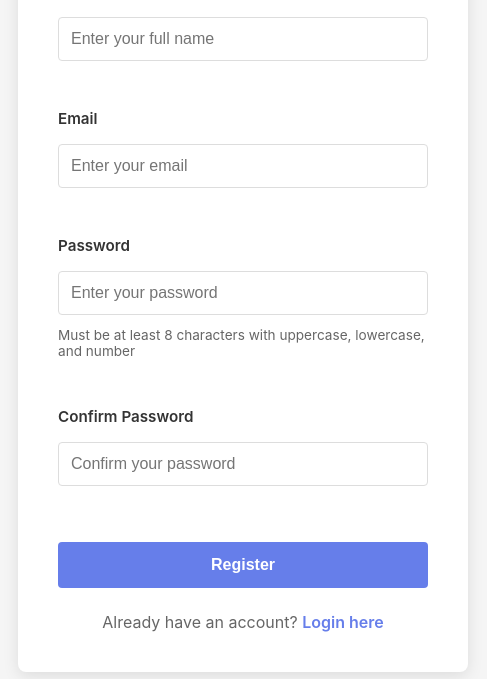
RegisterForm › validates empty fields
(page scrolled)
Click the button "Register": [243, 565] box [58,542,428,588]
(page scrolled)
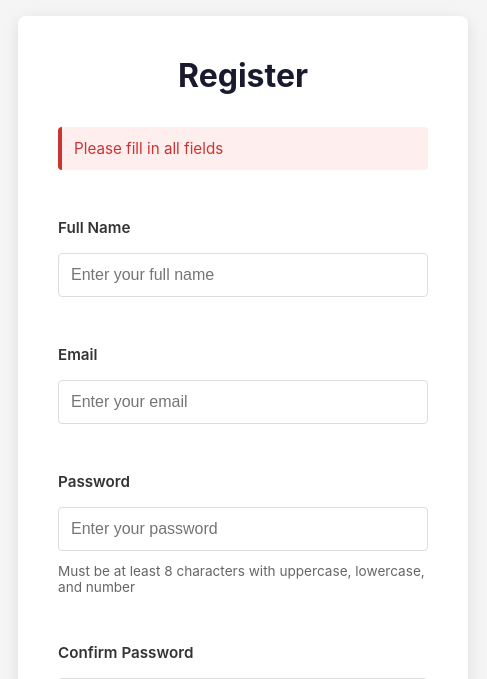
Check: the text "Please fill in all fields" is shown, box [58,127,428,170]
